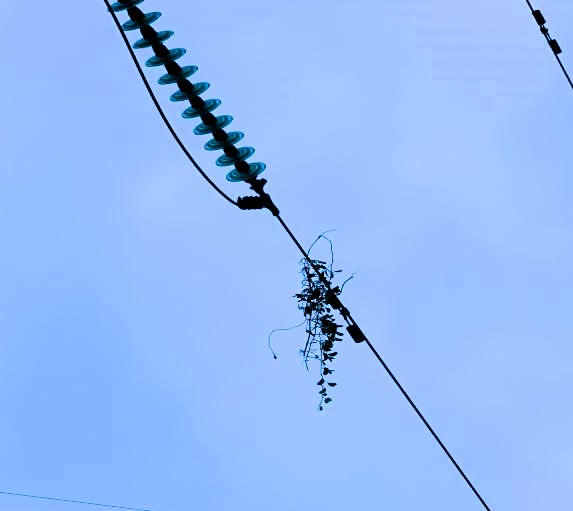wire foreign body: (273, 242, 356, 411)
